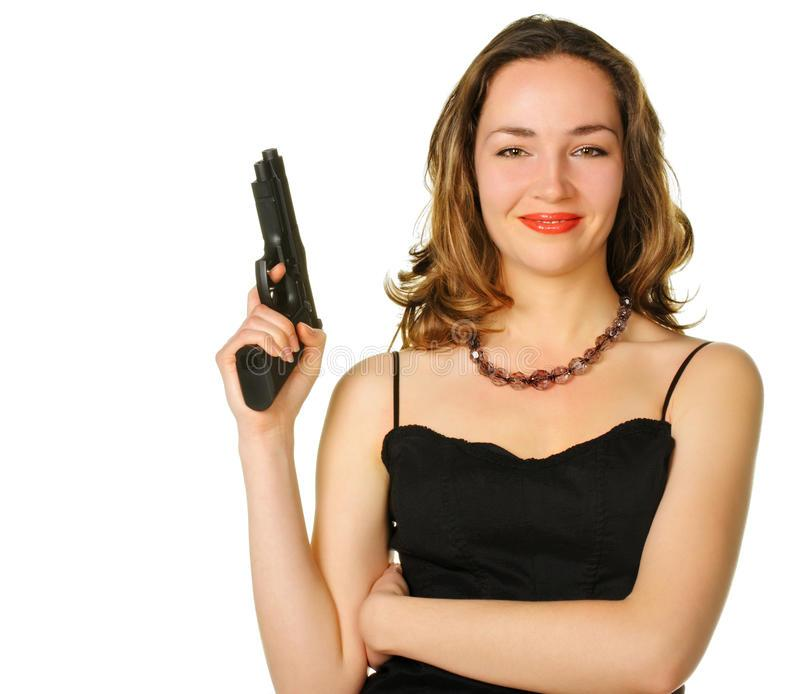criminal: (216, 9, 767, 694)
weapon: (233, 140, 326, 417)
